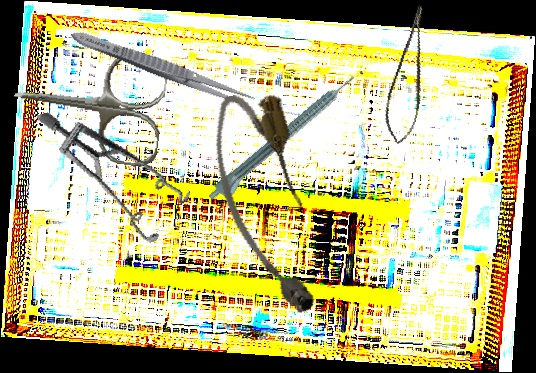Cannula: (201, 85, 330, 324)
Dressing Forceps: (68, 25, 257, 111)
Handpiece: (206, 72, 363, 209)
Iris Scissors: (7, 38, 170, 169)
Micro Scissor: (375, 3, 448, 149)
Speculum: (36, 77, 202, 265)
